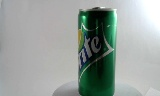sprite: (71, 6, 110, 95)
